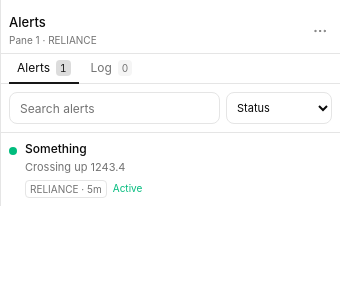
Scenario: the alert list on the rail › distinguishes an empty list from a search that matched nothing
Type "zzz" into the search field labelled "Search alerts". click: (114, 108)
box: [9,92,220,124]
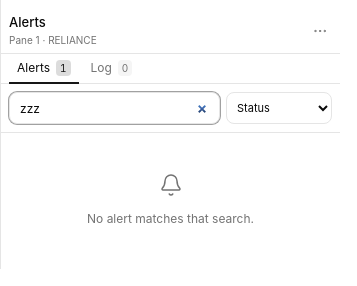
Check: the text "No alert matches that search." is shown, box [87,209,254,228]
